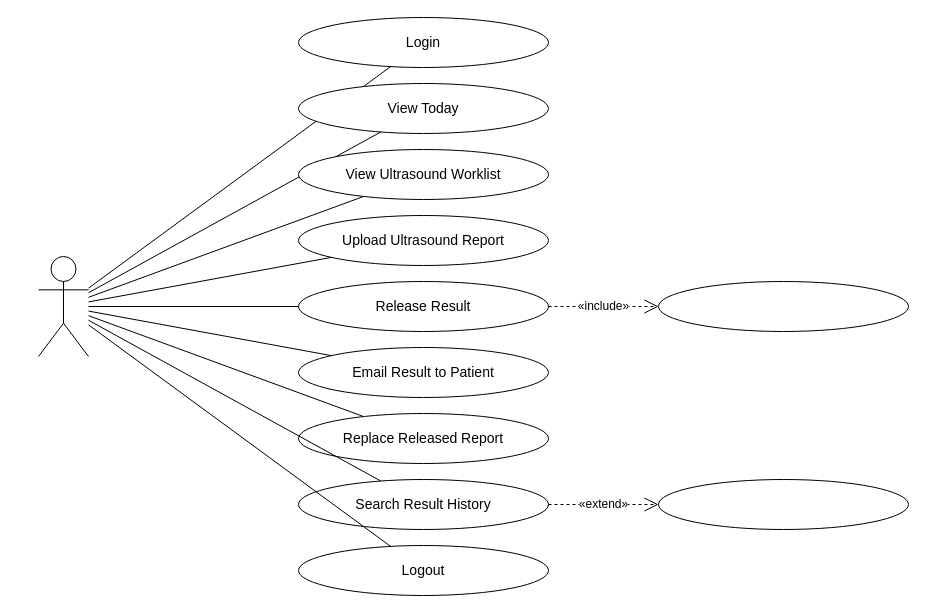
Some shapes in this 926 by 613 pixel diagram are drawn without their labels. Each missing label, with the box of its shape:
Print Ultrasound Result: (658, 478, 908, 530)
Record Delivery: (658, 280, 908, 332)
Ultrasound Staff: (38, 256, 88, 356)
